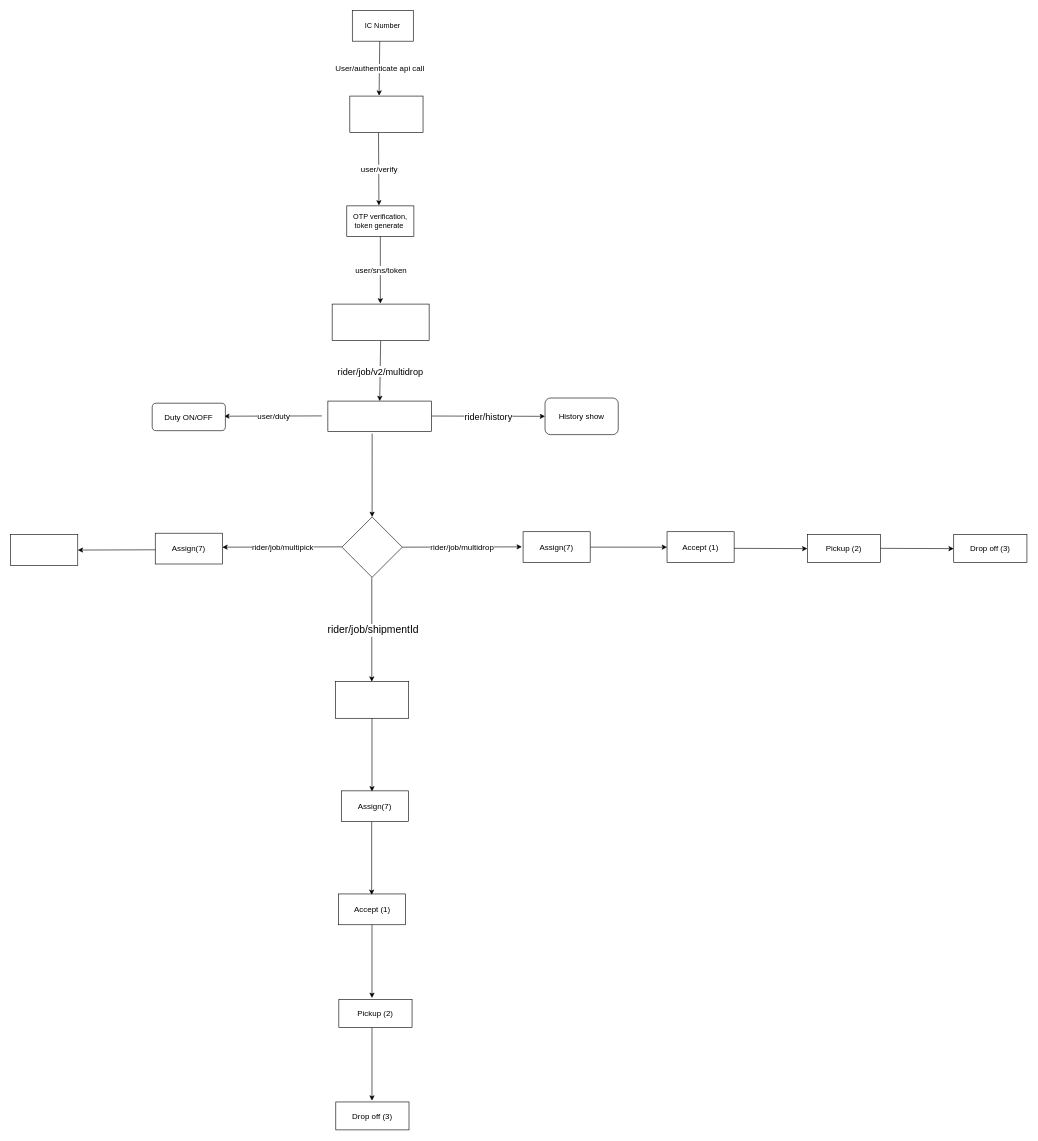
Image size: 1038x1141. Some labels were removed from this diagram. Here are the shapes that lost their labels. From the top down, the centre of each, then its label:
pixel 386 114: IC Number verification
pixel 380 322: Register, data show from shared preference
pixel 379 416: Show all order details
pixel 44 549: pickup(2)
pixel 371 546: Decision
pixel 372 699: Single Drop Details
